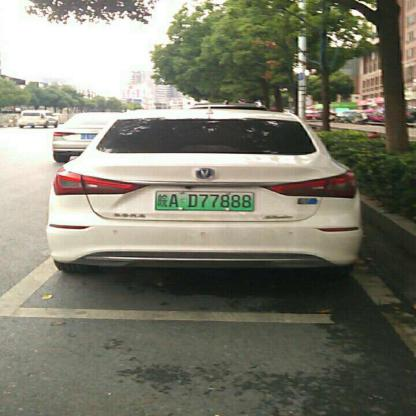lp: (155, 190, 253, 210)
